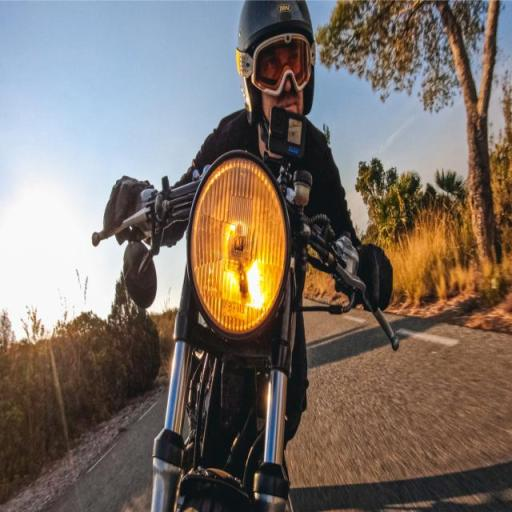Helmet: (215, 0, 335, 134)
Motor: (102, 177, 392, 512)
